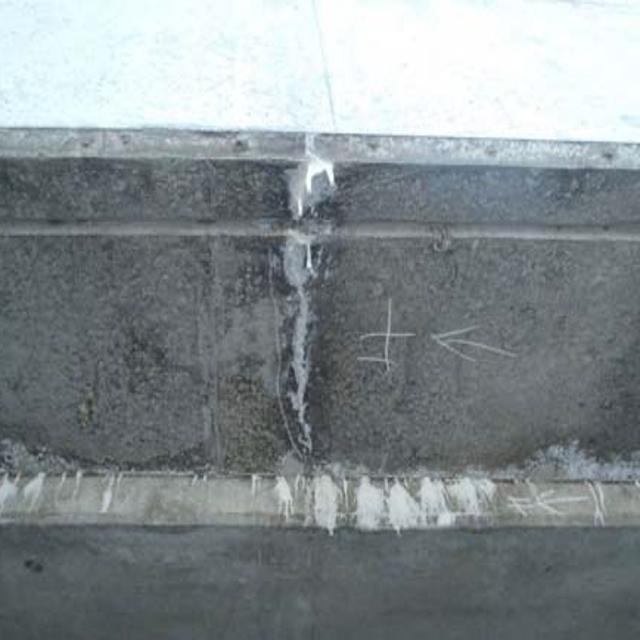freelime: (276, 126, 328, 450), (272, 469, 508, 534)
